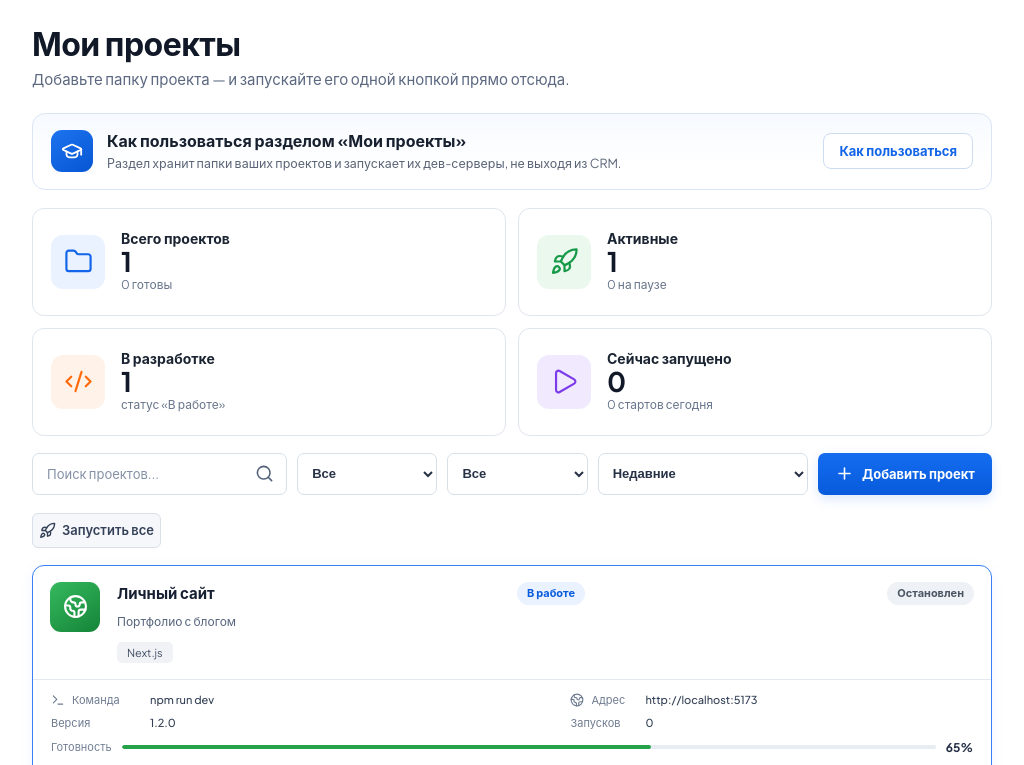
Scenario: страница «Мои проекты» › определяет команду запуска по папке проекта
Click the button "Добавить проект". click: coordinates (905, 474)
box: [818,453,992,495]
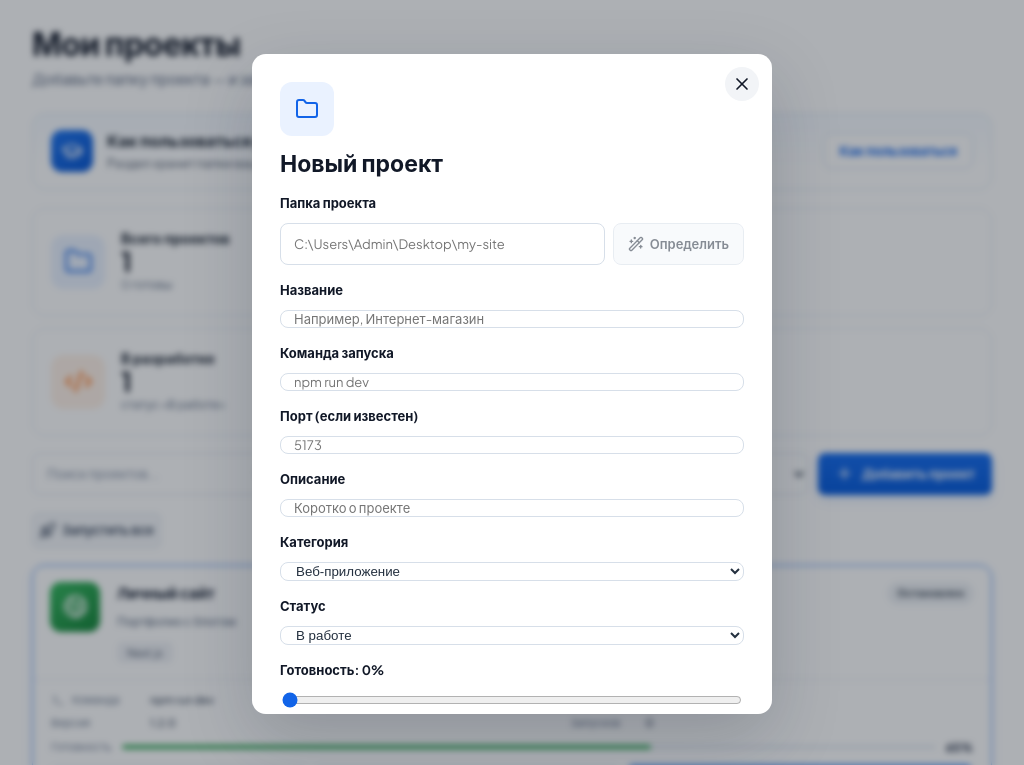
Type "C:\\sites\\portfolio" into the field labelled "Папка проекта". click: coordinates (442, 244)
box: [280,223,605,265]
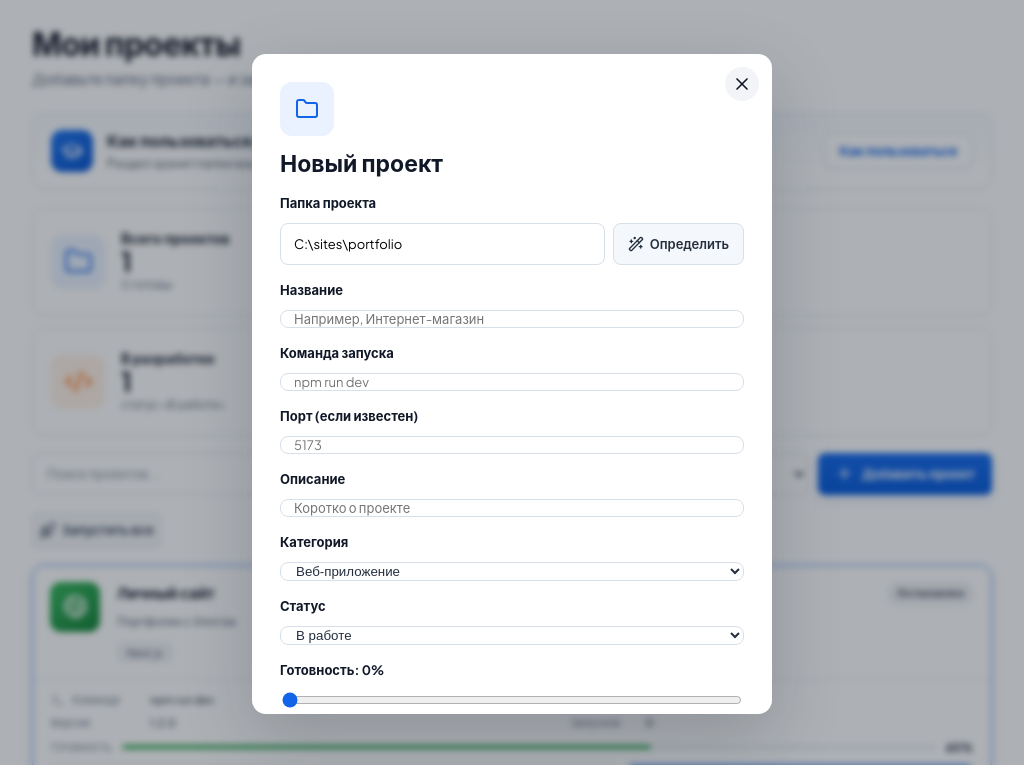
Click the button "Определить". click: coordinates (678, 244)
box: [613,223,744,265]
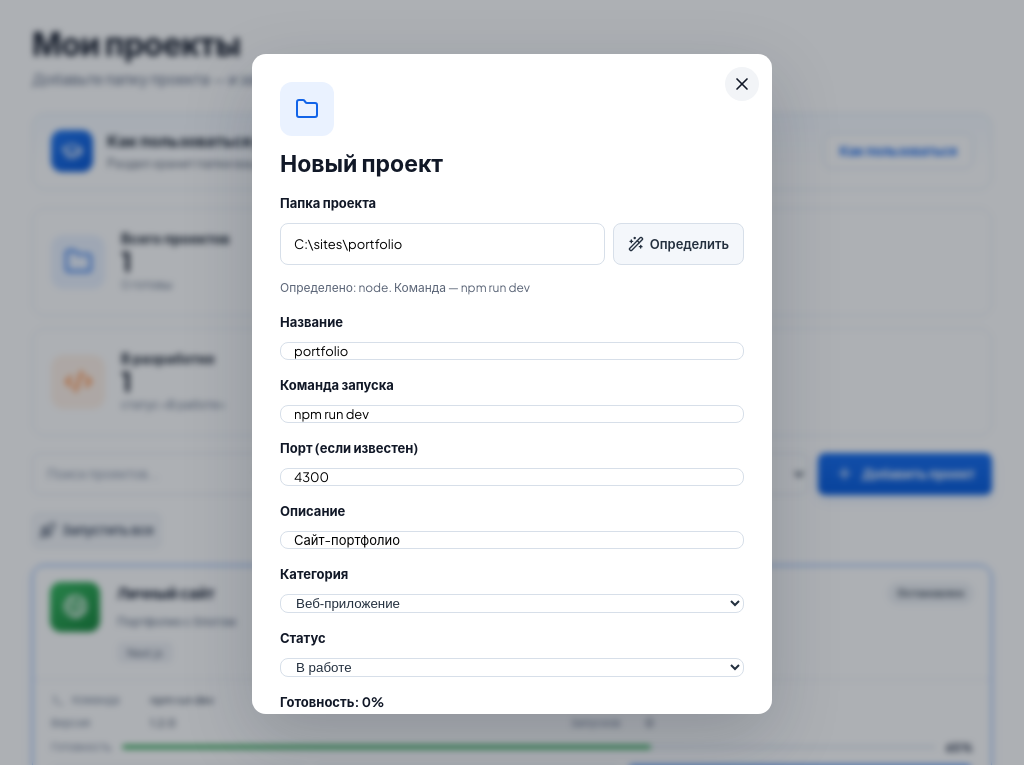
Check: the field labelled "Команда запуска" holds "npm run dev", box [280,405,744,423]
Check: the field labelled "Порт (если известен)" holds "4300", box [280,468,744,486]
Check: the field labelled "Название" holds "portfolio", box [280,342,744,360]
